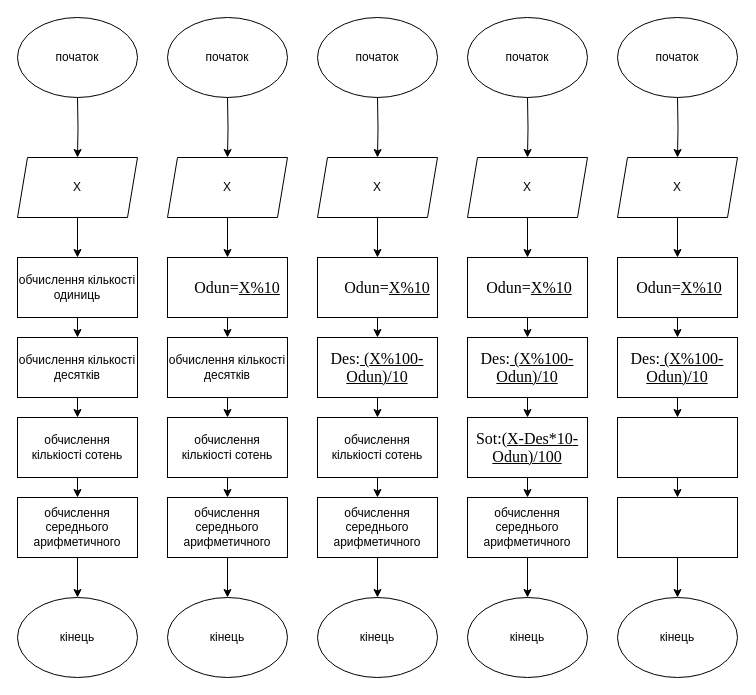
The diagram is 756 pixels wide and 695 high, and some of its shapes have lost their labels. The shapes that lost their labels are listed below. From the top down, each one's centre as x and y in pixels, then its label:
At (x=677, y=447): "Sot :( X - Des*10 - Odun)".
At (x=677, y=527): "Average: (Sot+Des+Odun)/3".
